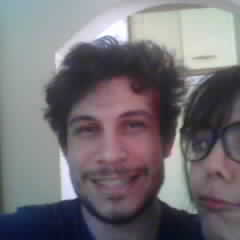without_mask: (64, 76, 162, 217), (183, 98, 240, 234)
